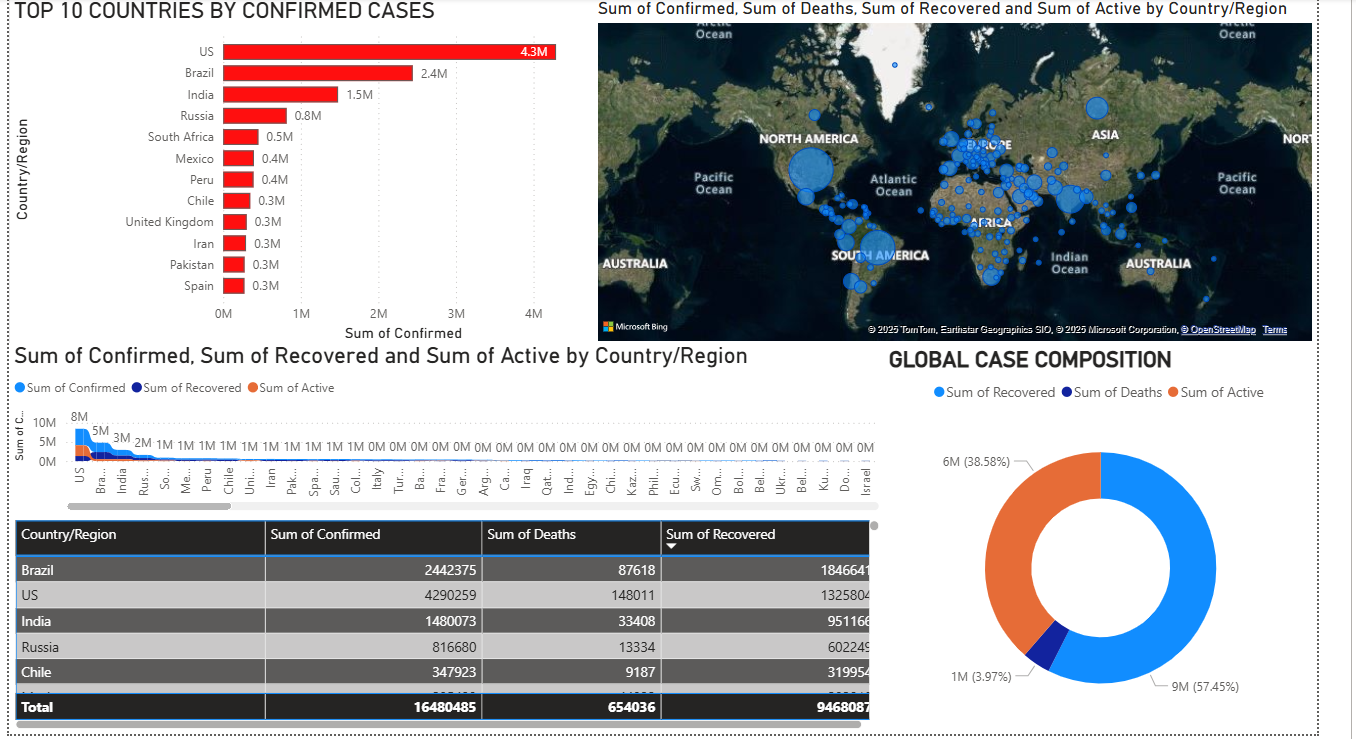

This screenshot's page, from the dashboard's own definition file:
{"tool":"powerbi","page":{"name":"Page 6","canvas":[1280,720],"ordinal":5},"visuals":[{"type":"clusteredBarChart","title":"TOP 10 COUNTRIES BY CONFIRMED CASES","fields":{"Category":["country_wise_latest.Country/Region"],"Y":["Sum(country_wise_latest.Confirmed)"]},"box":[0,0,584.5,341.2],"z":0},{"type":"map","fields":{"Category":["country_wise_latest.Country/Region"],"Size":["Sum(country_wise_latest.Confirmed)"]},"box":[571.1,0,709.2,341.2],"z":1000},{"type":"donutChart","title":"GLOBAL CASE COMPOSITION","fields":{"Y":["Sum(country_wise_latest.Recovered)","Sum(country_wise_latest.Deaths)","Sum(country_wise_latest.Active)"]},"box":[856,341.2,424.3,379.1],"z":2000},{"type":"tableEx","fields":{"Values":["country_wise_latest.Country/Region","Sum(country_wise_latest.Confirmed)","Sum(country_wise_latest.Deaths)","Sum(country_wise_latest.Recovered)"]},"box":[0,506.3,856,214],"z":3000},{"type":"ribbonChart","fields":{"Category":["country_wise_latest.Country/Region"],"Y":["Sum(country_wise_latest.Confirmed)","Sum(country_wise_latest.Recovered)","Sum(country_wise_latest.Active)"]},"box":[0,337.5,856,168.8],"z":4000}]}

Visuals, with their boxes on the page's 1280x720 design canvas (x1, y1, x2, y2). These are canvas units, not pixel positions in the 1356x739 screenshot, which may show the page scaled, cropped or inside an application window:
"TOP 10 COUNTRIES BY CONFIRMED CASES" clusteredBarChart: bbox=(0, 0, 584, 341)
map - country_wise_latest.Country/Region x Sum(country_wise_latest.Confirmed): bbox=(571, 0, 1280, 341)
"GLOBAL CASE COMPOSITION" donutChart: bbox=(856, 341, 1280, 720)
tableEx - country_wise_latest.Country/Region x Sum(country_wise_latest.Confirmed): bbox=(0, 506, 856, 720)
ribbonChart - country_wise_latest.Country/Region x Sum(country_wise_latest.Confirmed): bbox=(0, 338, 856, 506)
